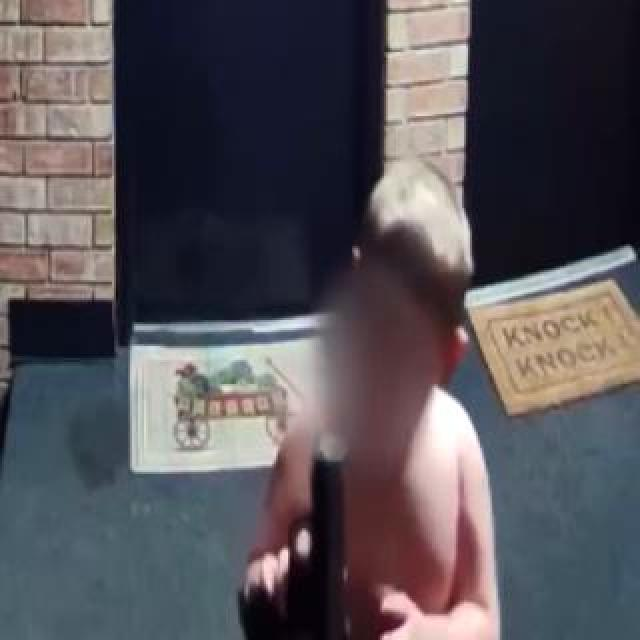Guns: (218, 433, 392, 640)
